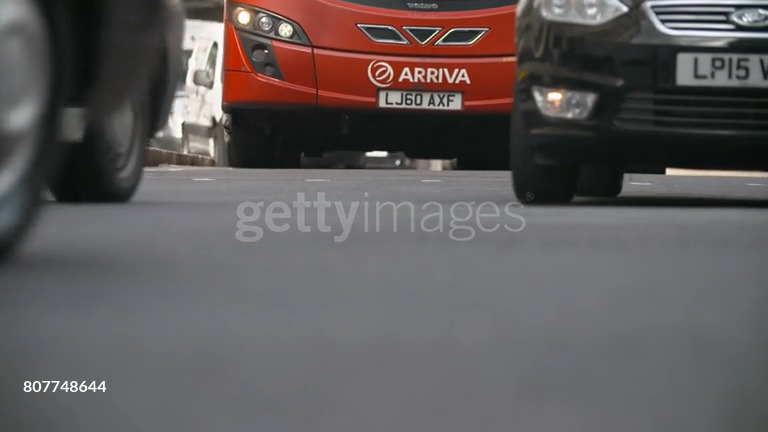car number: (673, 51, 768, 84), (377, 88, 464, 109)
